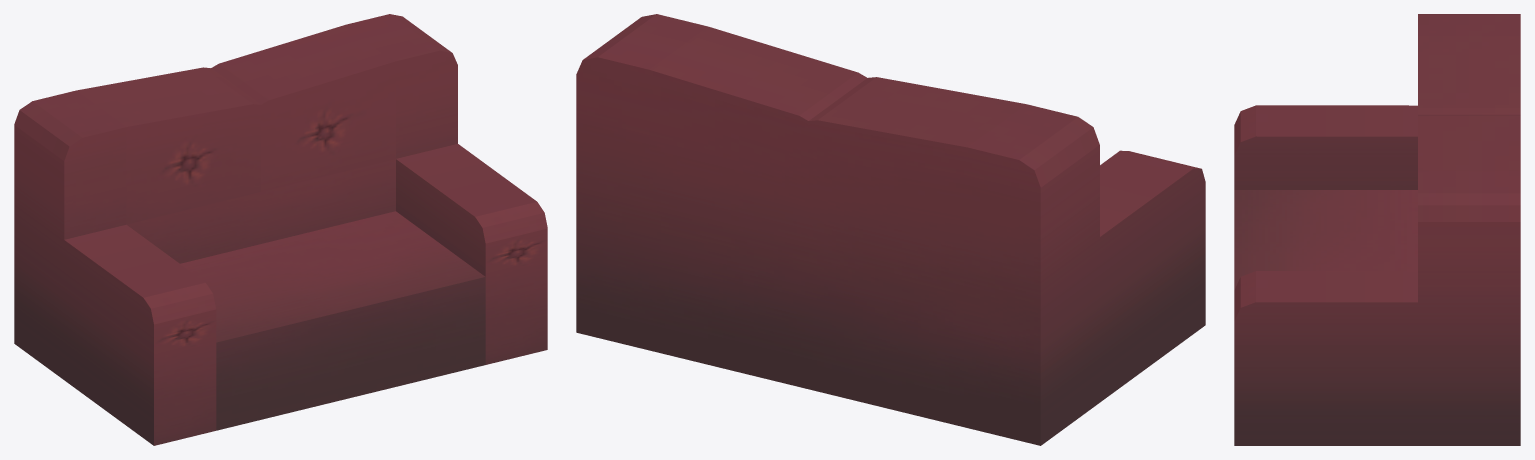
File: Sofa.glb
3 renders of one model, left to right at view 1: azimuth 30°, elevation 25°; view 2: azimuth 150°, elevation 25°; view 3: azimuth 270°, elevation 25°, orthographic. The views are drawn at different scales.
Parts seen in each view (by area): view 1: Cube; view 2: Cube; view 3: Cube.
Boxes of the visible parts, <box> form: Cube: <box>14,14,547,445</box>; Cube: <box>576,14,1205,445</box>; Cube: <box>1234,14,1520,445</box>.
Size of the model in its own units: 6.88 by 3.97 by 4.23.
2 materials, 2 textured.
